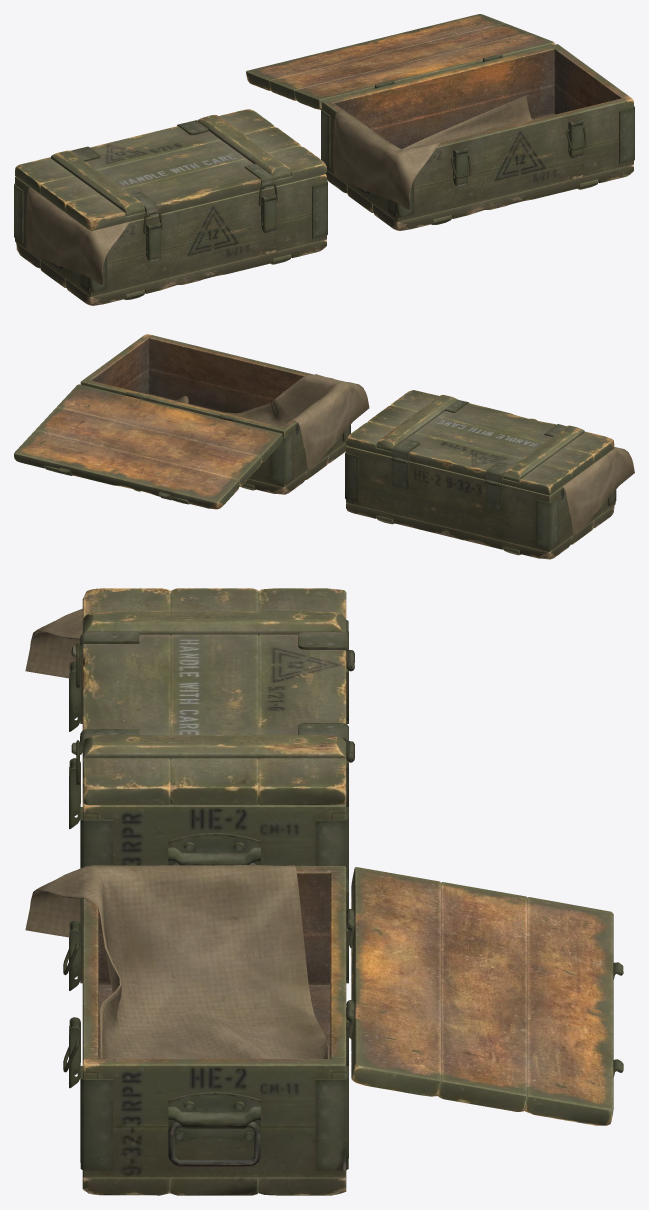
File: old_military_crate.glb
3 views of the same model, one above another, from view 1: azimuth 30°, elevation 25°; view 2: azimuth 150°, elevation 25°; view 3: azimuth 270°, elevation 25° (orthographic). The views are drawn at different scales.
Parts seen in each view (by area): view 1: old_military_crate_b, old_military_crate_lid_a, old_military_crate_a, old_military_crate_lid_b, old_military_crate_cloth_b, old_military_crate_cloth_a, old_military_crate_latch_a, old_military_crate_latch_b; view 2: old_military_crate_lid_b, old_military_crate_lid_a, old_military_crate_a, old_military_crate_b, old_military_crate_cloth_b, old_military_crate_cloth_a; view 3: old_military_crate_lid_a, old_military_crate_lid_b, old_military_crate_b, old_military_crate_cloth_b, old_military_crate_a, old_military_crate_cloth_a, old_military_crate_latch_b, old_military_crate_latch_a.
Boxes of the visible parts, x1,y1,x2,y2 form: old_military_crate_b: (321,44,634,230); old_military_crate_lid_a: (15,109,326,230); old_military_crate_a: (14,174,327,305); old_military_crate_lid_b: (246,14,555,109); old_military_crate_cloth_b: (333,95,532,209); old_military_crate_cloth_a: (26,187,129,284); old_military_crate_latch_a: (146,194,276,261); old_military_crate_latch_b: (453,119,583,186); old_military_crate_lid_b: (14,384,282,509); old_military_crate_lid_a: (346,390,614,495); old_military_crate_a: (345,446,616,559); old_military_crate_b: (80,334,350,494); old_military_crate_cloth_b: (174,374,369,470); old_military_crate_cloth_a: (562,447,634,535); old_military_crate_lid_a: (71,588,354,805); old_military_crate_lid_b: (346,867,623,1125); old_military_crate_b: (80,866,354,1195); old_military_crate_cloth_b: (25,865,328,1058); old_military_crate_a: (80,620,354,889); old_military_crate_cloth_a: (25,608,82,678); old_military_crate_latch_b: (69,920,80,1088); old_military_crate_latch_a: (69,661,80,829).
Bounding box in the file's own units: 1.82 × 0.3009 × 0.9757.
1 material, 1 textured.
